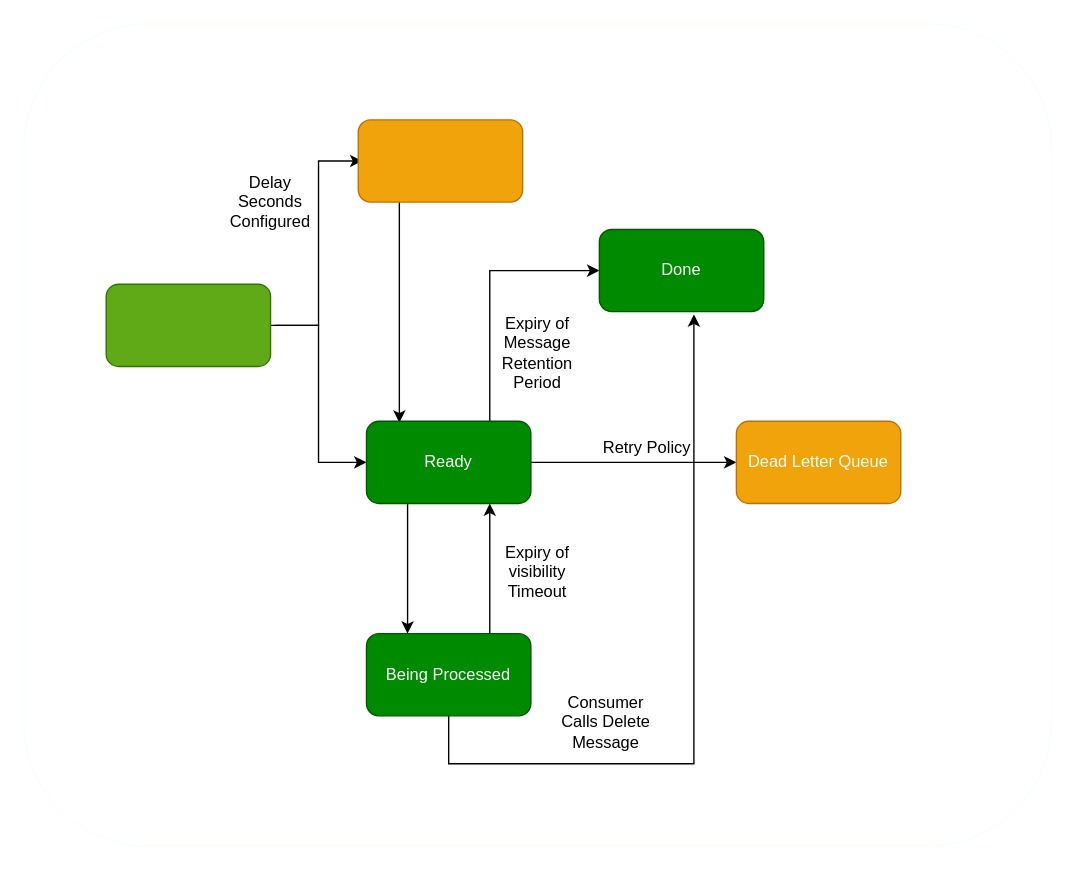
This 1075x870 diagram has some shape labels left out. The shapes that lost their labels are listed below. From the top down, each one's centre as x and y in pixels, then its label:
the point at 440,160: Delayed
the point at 188,324: Start
